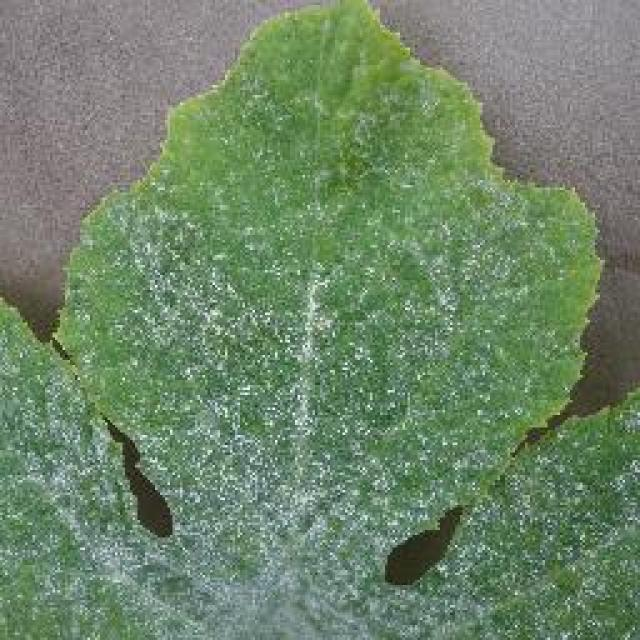Squ_Powdery_mildew: (36, 219, 488, 640)
